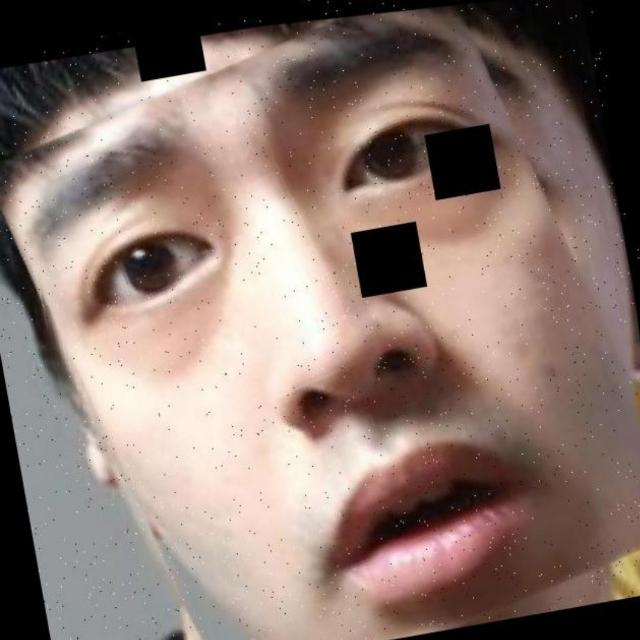Surprised: (61, 34, 593, 640)
